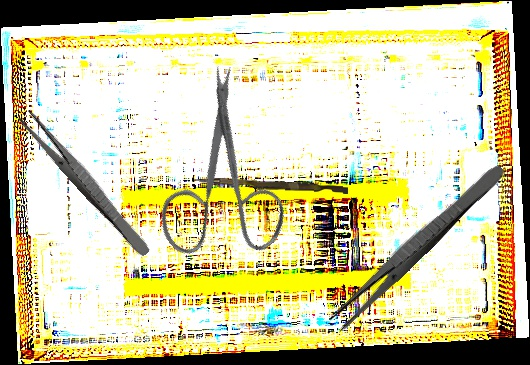Dressing Forceps: (325, 157, 509, 335), (16, 107, 156, 259)
Iris Scissors: (101, 59, 332, 293)
Pusher: (193, 177, 349, 194)
